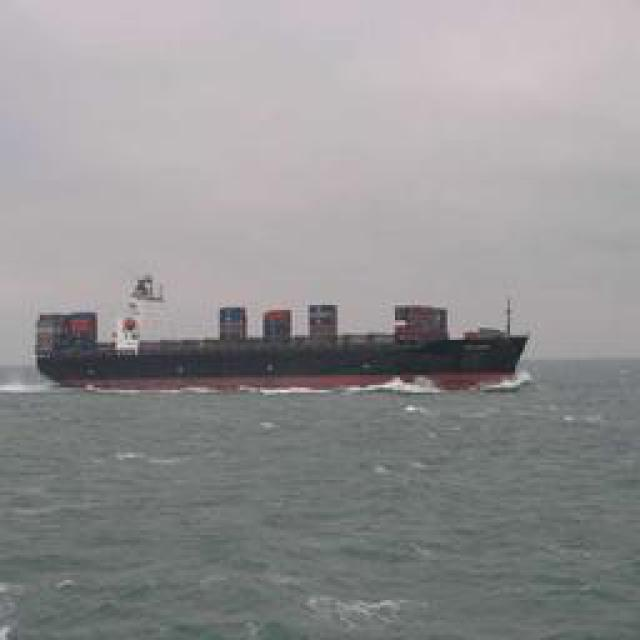Ship: (41, 300, 541, 390)
